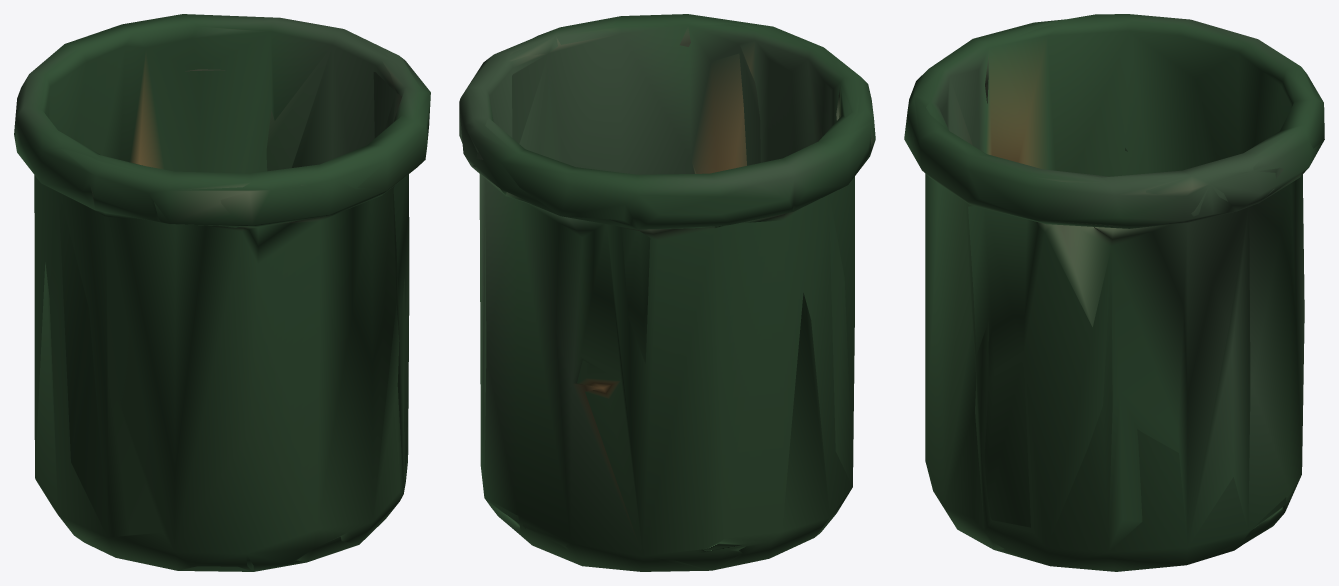
The model's file is gen3d-container-lod1.glb.
The picture shows the model from 3 angles, left to right: view 1: azimuth 30°, elevation 25°; view 2: azimuth 150°, elevation 25°; view 3: azimuth 270°, elevation 25°; orthographic projection.
Visible parts, largest first — view 1: part_0; view 2: part_0; view 3: part_0.
Boxes of the visible parts, x1=… form: part_0: x1=14, y1=14, x2=430, y2=571; part_0: x1=459, y1=14, x2=875, y2=571; part_0: x1=904, y1=14, x2=1324, y2=571.
Bounding box in the file's own units: 0.9406 × 1 × 0.9427.
